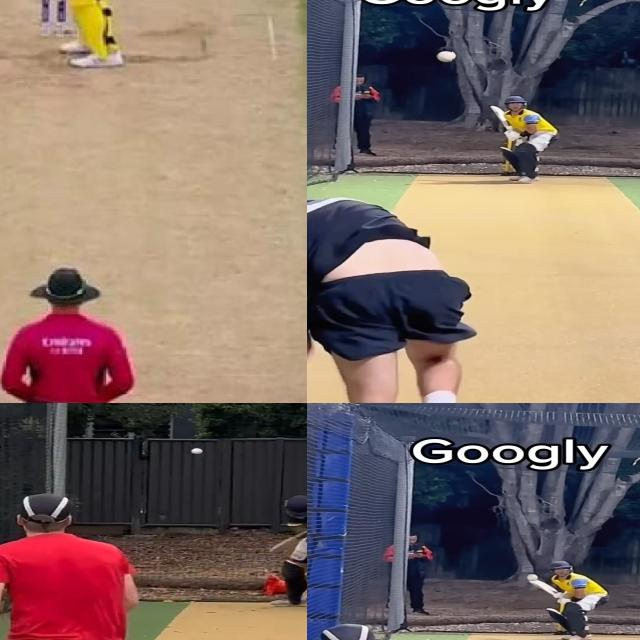Cricket ball: (435, 50, 458, 64), (190, 447, 204, 455), (526, 573, 539, 581)
